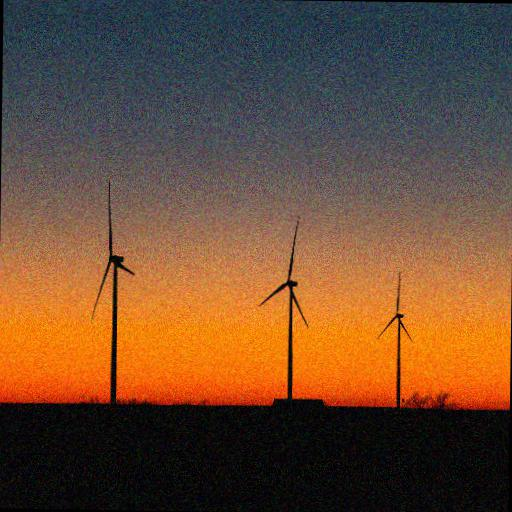wind turbine: (91, 180, 136, 401), (258, 215, 308, 403), (375, 271, 414, 408)
